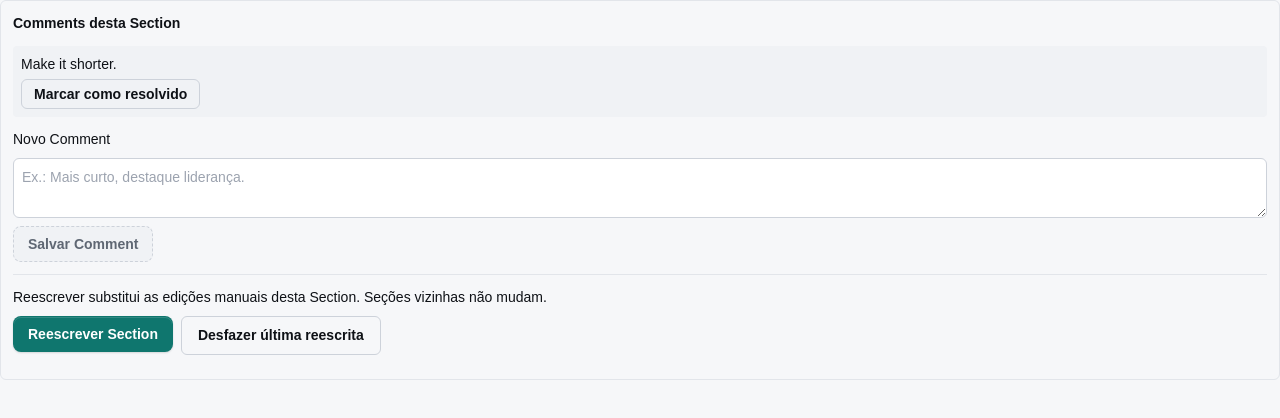
Test case: CommentPanel › should undo the last rewrite
The image size is (1280, 418).
Click the button "Desfazer última reescrita".
click(281, 336)  # box x1=181 y1=316 x2=381 y2=355
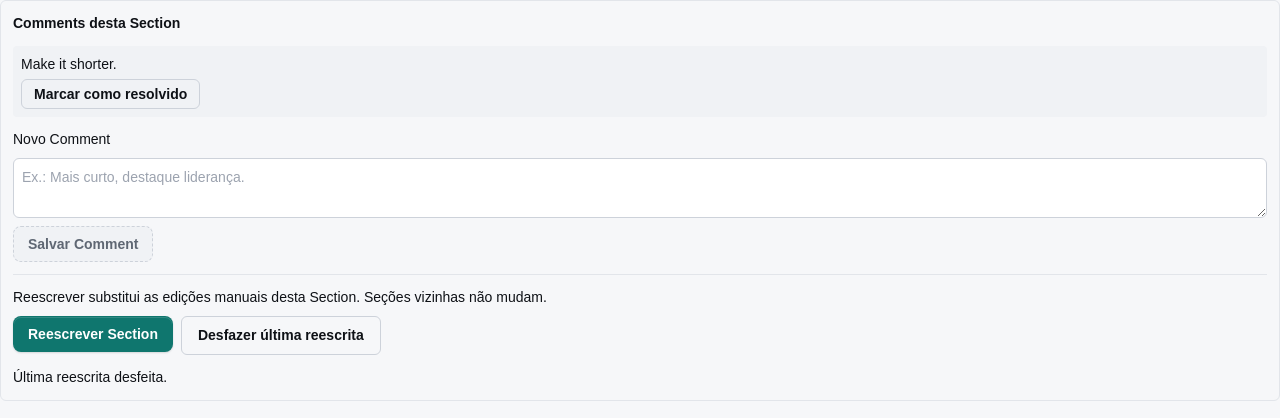
Check: the message reads "Última reescrita desfeita.", box x1=13 y1=369 x2=167 y2=385
